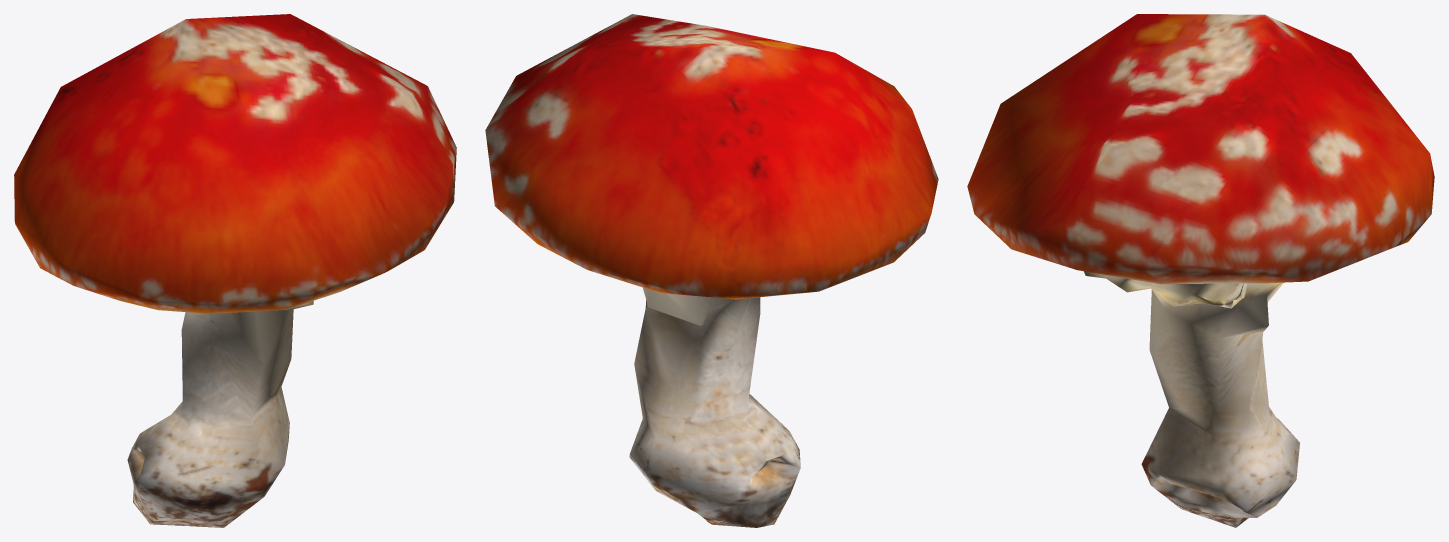
File: RedMushroom.fbx
3 views of the same model, side by side, from view 1: azimuth 30°, elevation 25°; view 2: azimuth 150°, elevation 25°; view 3: azimuth 270°, elevation 25° (orthographic). The views are drawn at different scales.
Parts seen in each view (by area): view 1: RedMushroom; view 2: RedMushroom; view 3: RedMushroom.
Part boxes in pixels (box(x1,y1,x2,y2)): RedMushroom: box(14, 14, 456, 527); RedMushroom: box(485, 14, 938, 527); RedMushroom: box(967, 14, 1434, 527).
Size of the model in its own units: 11.86 by 14.19 by 11.83.
